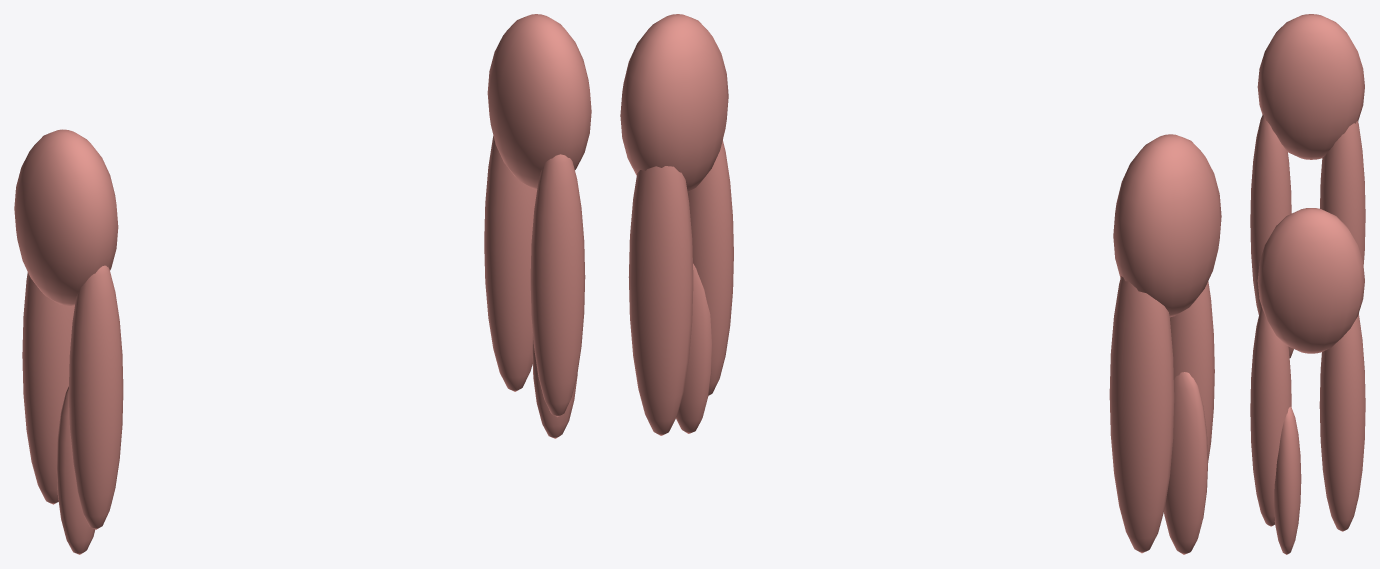
The model's file is muscles-upper-limb.glb.
3 views of the same model, side by side, from view 1: azimuth 30°, elevation 25°; view 2: azimuth 150°, elevation 25°; view 3: azimuth 270°, elevation 25° (orthographic). The views are drawn at different scales.
Visible parts, largest first — view 1: Deltoid muscle.R, Deltoid muscle.L, Biceps brachii muscle.L, Biceps brachii muscle.R, Triceps brachii muscle.L, Triceps brachii muscle.R, Brachialis muscle.R, Brachialis muscle.L; view 2: Deltoid muscle.R, Triceps brachii muscle.L, Deltoid muscle.L, Triceps brachii muscle.R, Biceps brachii muscle.L, Brachialis muscle.R, Biceps brachii muscle.R, Brachialis muscle.L; view 3: Deltoid muscle.L, Deltoid muscle.R, Triceps brachii muscle.L, Biceps brachii muscle.L, Biceps brachii muscle.R, Triceps brachii muscle.R, Brachialis muscle.L.
Part boxes in pixels (bbox=[...]): Deltoid muscle.R: bbox=[14, 129, 118, 305]; Deltoid muscle.L: bbox=[487, 14, 591, 189]; Biceps brachii muscle.L: bbox=[530, 154, 585, 416]; Biceps brachii muscle.R: bbox=[68, 265, 123, 529]; Triceps brachii muscle.L: bbox=[484, 136, 536, 391]; Triceps brachii muscle.R: bbox=[22, 272, 74, 504]; Brachialis muscle.R: bbox=[56, 386, 95, 554]; Brachialis muscle.L: bbox=[532, 333, 577, 438]; Deltoid muscle.R: bbox=[1113, 134, 1221, 317]; Triceps brachii muscle.L: bbox=[628, 166, 693, 435]; Deltoid muscle.L: bbox=[620, 14, 728, 191]; Triceps brachii muscle.R: bbox=[1109, 276, 1174, 553]; Biceps brachii muscle.L: bbox=[687, 140, 733, 395]; Brachialis muscle.R: bbox=[1164, 372, 1208, 554]; Biceps brachii muscle.R: bbox=[1170, 281, 1214, 460]; Brachialis muscle.L: bbox=[676, 263, 711, 433]; Deltoid muscle.L: bbox=[1257, 208, 1364, 353]; Deltoid muscle.R: bbox=[1257, 14, 1364, 159]; Triceps brachii muscle.L: bbox=[1319, 313, 1365, 531]; Biceps brachii muscle.L: bbox=[1250, 306, 1291, 526]; Biceps brachii muscle.R: bbox=[1250, 114, 1291, 314]; Triceps brachii muscle.R: bbox=[1320, 121, 1365, 264]; Brachialis muscle.L: bbox=[1274, 406, 1301, 554].
Bounding box in the file's own units: 0.482 × 0.34 × 0.103.
